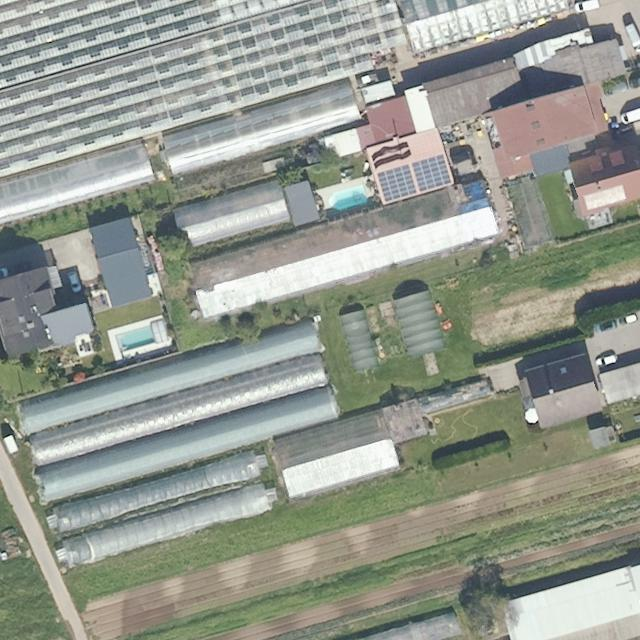PV: (411, 153, 452, 192), (377, 164, 417, 203)
